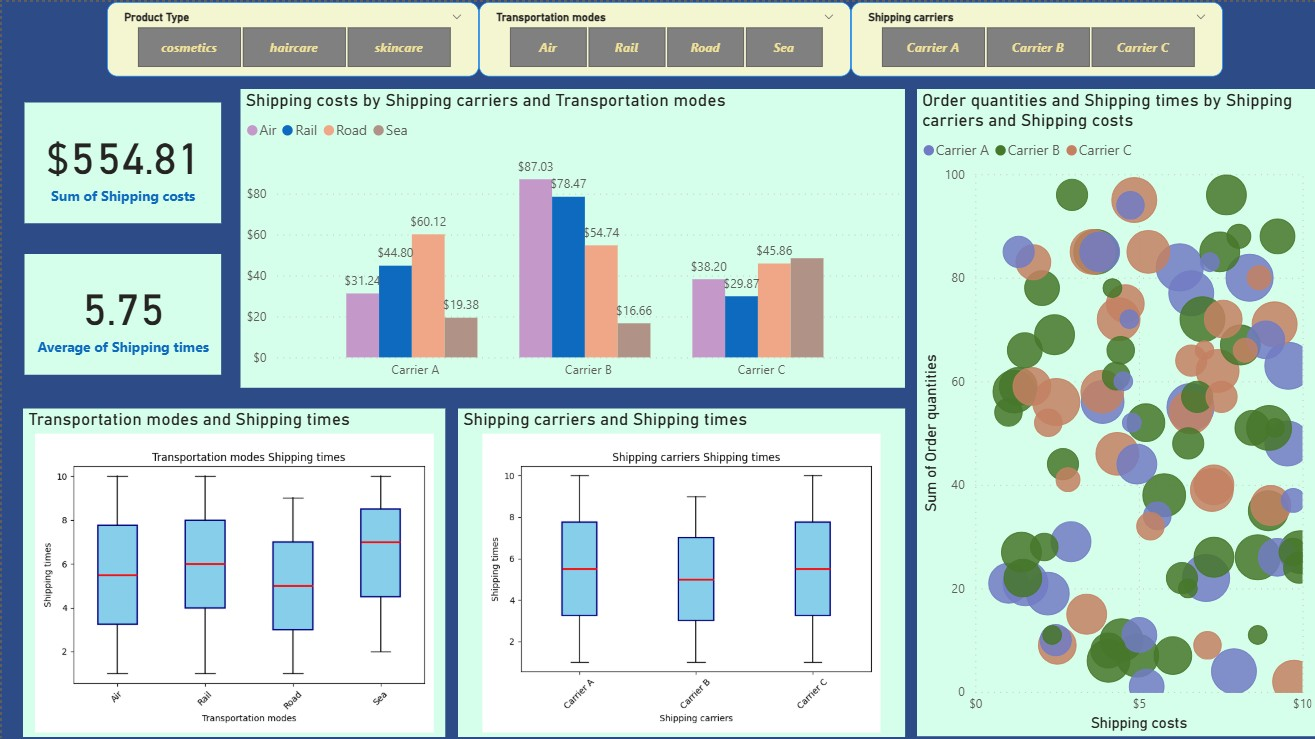

The page's visual inventory and layout, read from the dashboard file:
{"tool":"powerbi","page":{"name":"Logistic Performance","canvas":[1280,720],"ordinal":5},"visuals":[{"type":"slicer","fields":{"Values":["supply_chain_data.Product type"]},"box":[101,0,359.4,72.2],"z":2000},{"type":"slicer","fields":{"Values":["supply_chain_data.Transportation modes"]},"box":[460.3,0,359.4,72.2],"z":3000},{"type":"slicer","fields":{"Values":["supply_chain_data.Shipping carriers"]},"box":[819.7,0,359.4,72.2],"z":4000},{"type":"clusteredColumnChart","title":"Shipping costs by Shipping carriers and Transportation modes","fields":{"Y":["Sum(supply_chain_data.Shipping costs)"],"Series":["supply_chain_data.Transportation modes"],"Category":["supply_chain_data.Shipping carriers"]},"box":[230.6,84.3,641.9,289],"z":5000},{"type":"pythonVisual","fields":{"Values":["supply_chain_data.Transportation modes","supply_chain_data.Shipping times"]},"box":[19.9,392.1,408.3,318],"z":6000},{"type":"pythonVisual","fields":{"Values":["supply_chain_data.Shipping carriers","supply_chain_data.Shipping times"]},"box":[440.9,392.1,431.8,318],"z":7000},{"type":"scatterChart","title":"Order quantities and Shipping times by Shipping carriers and Shipping costs","fields":{"X":["supply_chain_data.Shipping costs"],"Series":["supply_chain_data.Shipping carriers"],"Y":["Sum(supply_chain_data.Order quantities)"],"Size":["Sum(supply_chain_data.Shipping times)"]},"box":[884.5,84.3,387.1,625.2],"z":8000},{"type":"card","fields":{"Values":["Sum(supply_chain_data.Shipping costs)"]},"box":[22.2,97.3,189.9,116.7],"z":9000},{"type":"card","fields":{"Values":["Avg(supply_chain_data.Shipping times)"]},"box":[22.2,243.6,189.9,116.7],"z":10000}]}

Visuals, with their boxes in screenshot pixels (x1, y1, x2, y2), scaled from the page's 1280x720 canvas onto the 1315x739 screenshot:
slicer - supply_chain_data.Product type: [x1=104, y1=0, x2=473, y2=74]
slicer - supply_chain_data.Transportation modes: [x1=473, y1=0, x2=842, y2=74]
slicer - supply_chain_data.Shipping carriers: [x1=842, y1=0, x2=1211, y2=74]
"Shipping costs by Shipping carriers and Transportation modes" clusteredColumnChart: [x1=237, y1=87, x2=896, y2=383]
pythonVisual - supply_chain_data.Transportation modes x supply_chain_data.Shipping times: [x1=20, y1=402, x2=440, y2=729]
pythonVisual - supply_chain_data.Shipping carriers x supply_chain_data.Shipping times: [x1=453, y1=402, x2=897, y2=729]
"Order quantities and Shipping times by Shipping carriers and Shipping costs" scatterChart: [x1=909, y1=87, x2=1306, y2=728]
card - Sum(supply_chain_data.Shipping costs): [x1=23, y1=100, x2=218, y2=220]
card - Avg(supply_chain_data.Shipping times): [x1=23, y1=250, x2=218, y2=370]
